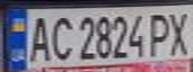2: (75, 11, 96, 61), (112, 11, 130, 60)
4: (127, 10, 151, 58)
8: (93, 11, 115, 60)
A: (24, 12, 54, 63)
C: (48, 12, 75, 62)
P: (148, 10, 175, 56)
X: (166, 8, 193, 56)
